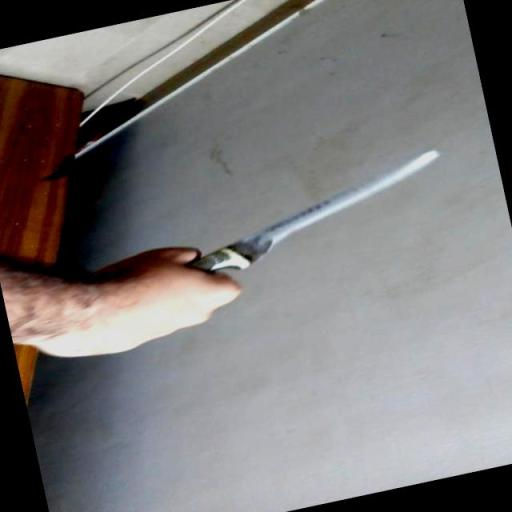knife: (174, 147, 454, 280)
